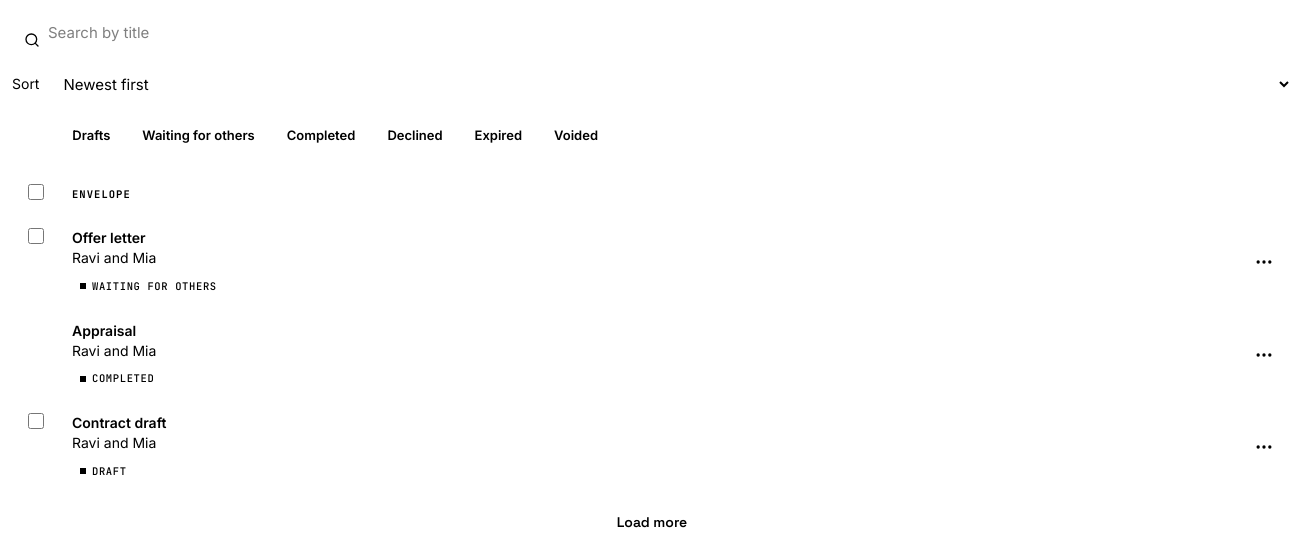
Test: EnvelopesTable › filters by status and searches through the API
The image size is (1304, 545).
Click the button "Waiting for others". click: click(199, 136)
box: [130,120,267,152]
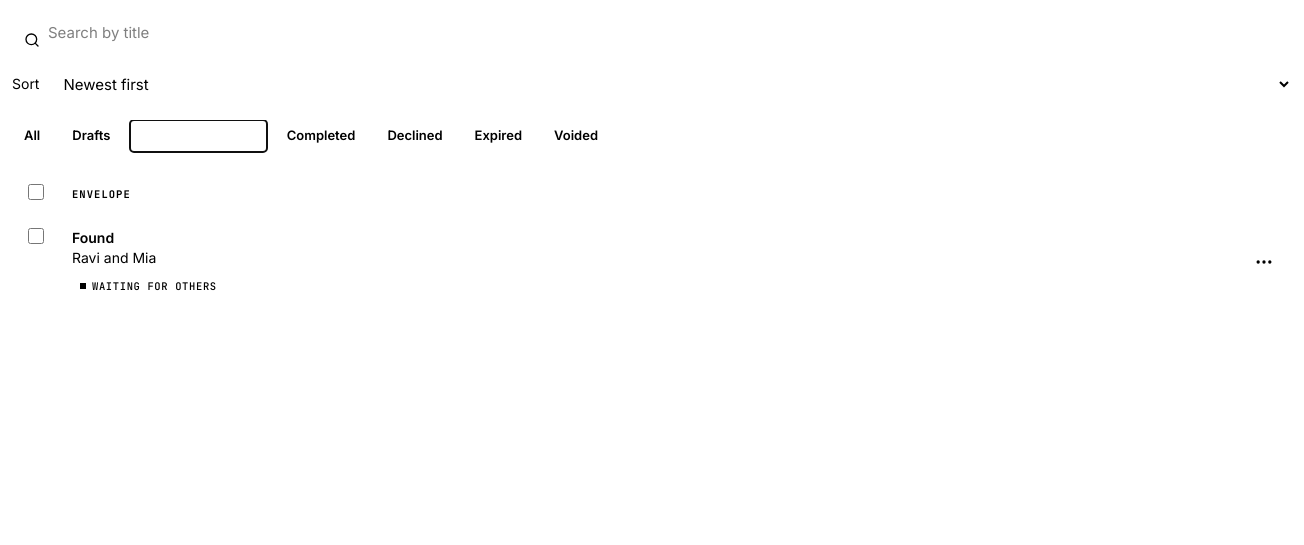
expect the link "Found" is shown: met, box [72,229,114,246]
Type "zzz" into the search field labelled "Search by title". click: (652, 32)
box: [12,12,1292,52]
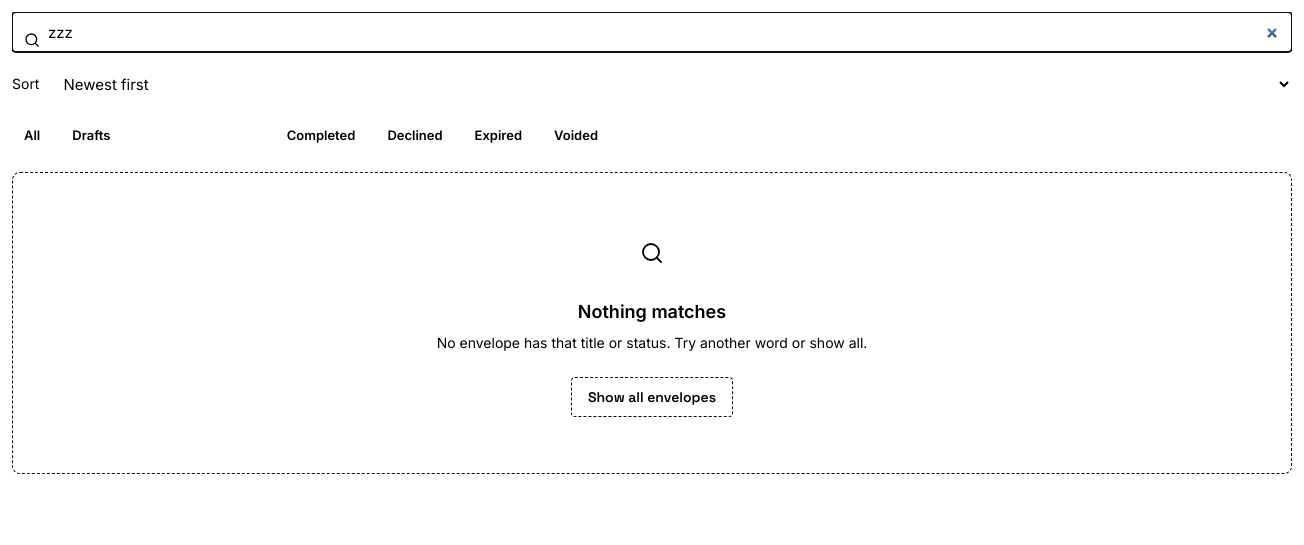
expect the heading "Nothing matches" is shown: met, box [578,297,726,327]
Click the button "Show all envelopes". click: click(652, 397)
box: [571,377,733,417]
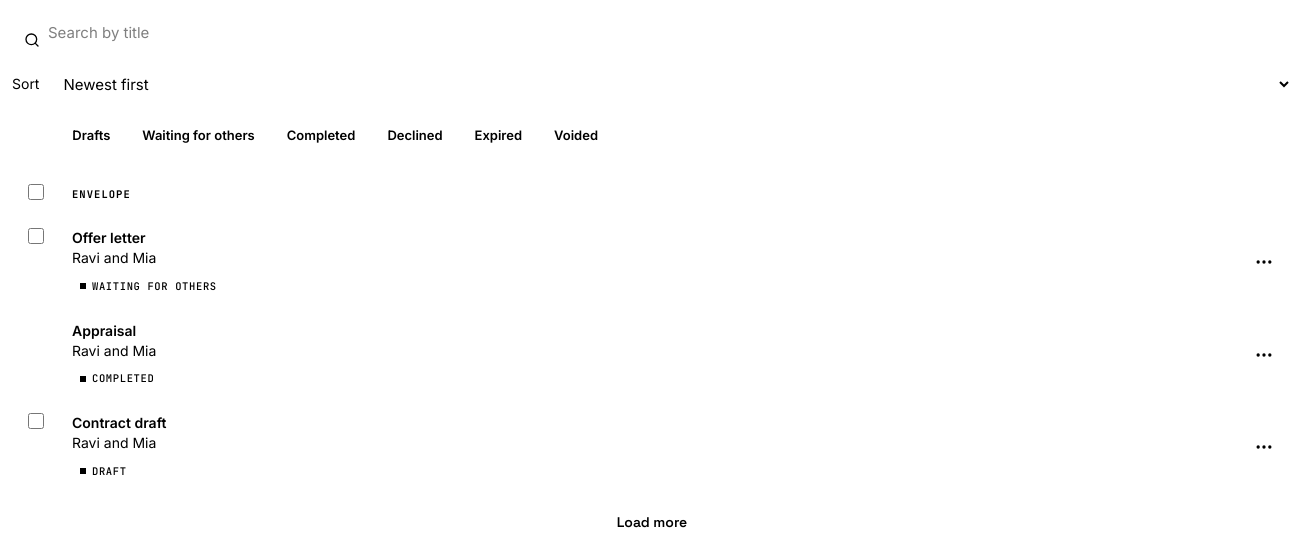
expect the link "Appraisal" is shown: met, box [72,322,136,338]
